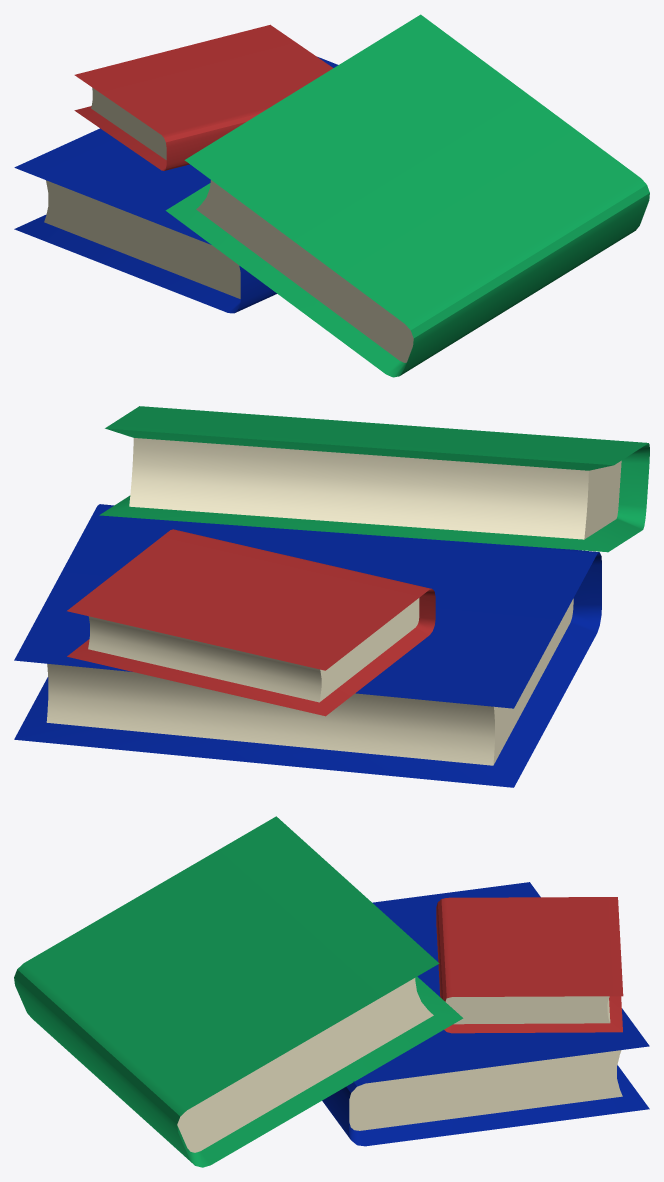
File: Books.fbx
3 renders of one model, top to bottom at view 1: azimuth 30°, elevation 25°; view 2: azimuth 150°, elevation 25°; view 3: azimuth 270°, elevation 25°, orthographic. The views are drawn at different scales.
Visible parts, largest first — view 1: Book2, Book, Book3; view 2: Book, Book2, Book3; view 3: Book2, Book, Book3.
Boxes of the visible parts, bbox=[...] form: Book2: bbox=[165, 14, 649, 377]; Book: bbox=[14, 56, 338, 313]; Book3: bbox=[74, 24, 333, 170]; Book: bbox=[14, 504, 601, 787]; Book2: bbox=[99, 406, 649, 552]; Book3: bbox=[67, 529, 435, 716]; Book2: bbox=[14, 816, 463, 1167]; Book: bbox=[322, 882, 649, 1146]; Book3: bbox=[436, 897, 623, 1033].
Bounding box in the file's own units: 2.02 × 0.6871 × 2.35.
